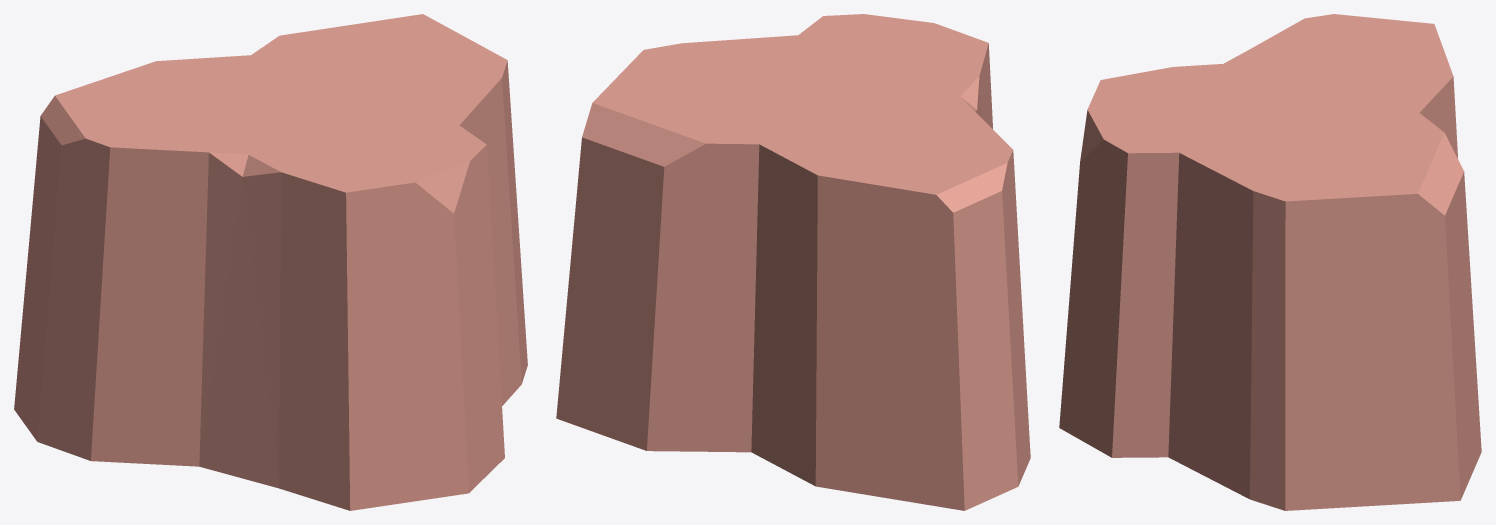
Rendered from Plane_032_Vlad.fbx.
3 views of the same model, side by side, from view 1: azimuth 30°, elevation 25°; view 2: azimuth 150°, elevation 25°; view 3: azimuth 270°, elevation 25° (orthographic). The views are drawn at different scales.
Visible parts, largest first — view 1: Plane.032; view 2: Plane.032; view 3: Plane.032.
Boxes of the visible parts, <box> form: Plane.032: <box>14,14,527,510</box>; Plane.032: <box>556,14,1030,510</box>; Plane.032: <box>1059,14,1481,510</box>.
Size of the model in its own units: 302 by 200 by 255.
